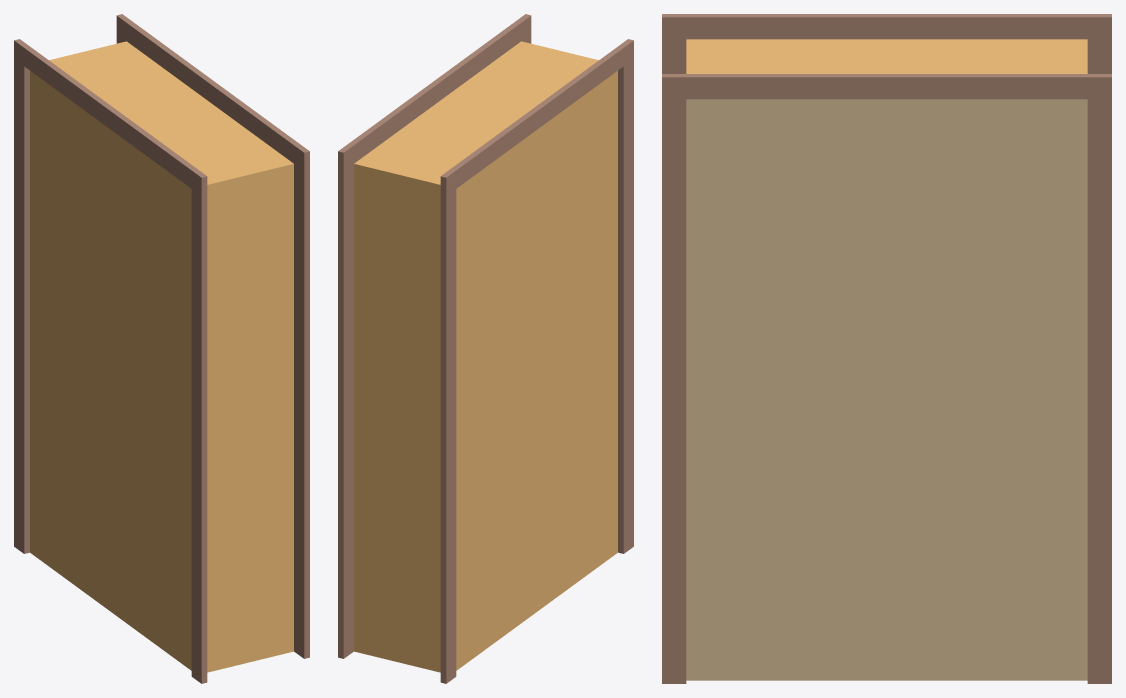
Rendered from door-1250mm-x-2010mm.glb.
3 renders of one model, left to right at view 1: azimuth 30°, elevation 25°; view 2: azimuth 150°, elevation 25°; view 3: azimuth 270°, elevation 25°, orthographic. The views are drawn at different scales.
Parts seen in each view (by area): view 1: 1xS3BCk291UvhgP2dvNrY1, 1hOSvn6df7F8_7GcBWlRGQ; view 2: 1xS3BCk291UvhgP2dvNrY1, 1hOSvn6df7F8_7GcBWlRGQ; view 3: 1hOSvn6df7F8_7GcBWlRGQ, 1xS3BCk291UvhgP2dvNrY1.
Part boxes in pixels (left/top/right/bottom): 1xS3BCk291UvhgP2dvNrY1: left=30, top=41, right=293, bottom=672; 1hOSvn6df7F8_7GcBWlRGQ: left=14, top=14, right=309, bottom=683; 1xS3BCk291UvhgP2dvNrY1: left=354, top=41, right=617, bottom=672; 1hOSvn6df7F8_7GcBWlRGQ: left=338, top=14, right=633, bottom=683; 1hOSvn6df7F8_7GcBWlRGQ: left=662, top=14, right=1111, bottom=683; 1xS3BCk291UvhgP2dvNrY1: left=686, top=39, right=1087, bottom=73.
Size of the model in its own units: 0.467 by 2.09 by 1.4.
